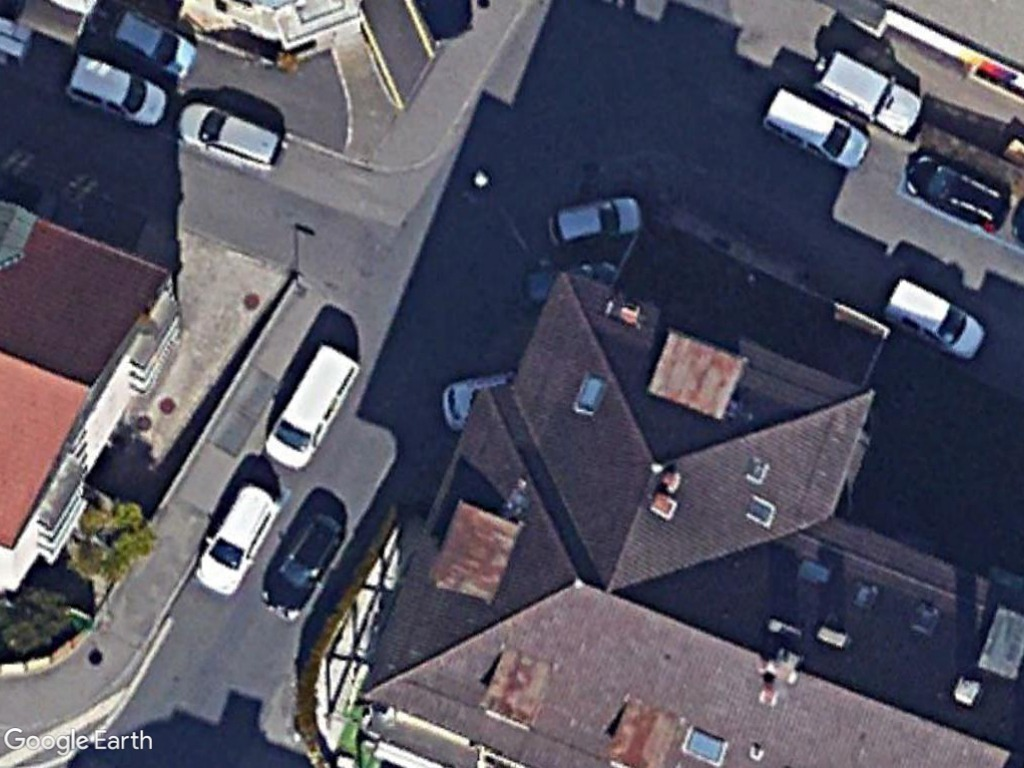car: (192, 479, 276, 596), (260, 508, 346, 620), (175, 96, 284, 173), (62, 52, 172, 128), (106, 5, 202, 84), (543, 192, 646, 251)
van: (261, 335, 369, 473), (758, 88, 871, 175), (880, 274, 986, 361)
